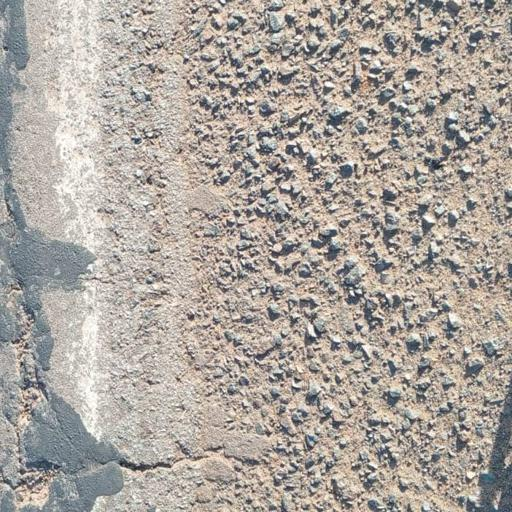GRIETA: (1, 187, 55, 507), (57, 446, 281, 478)
